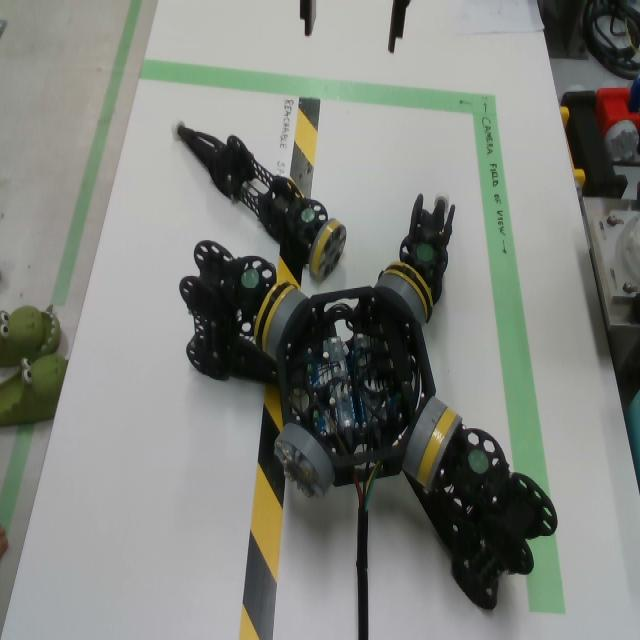body: (277, 287, 436, 487)
body_connector: (276, 424, 335, 496), (403, 397, 446, 477), (265, 289, 308, 360), (376, 275, 426, 324)
leg: (403, 410, 558, 612), (170, 117, 346, 283), (179, 240, 295, 383), (377, 192, 456, 323)
leg_connector: (416, 408, 462, 489), (378, 261, 434, 324), (254, 281, 295, 352), (309, 219, 347, 283)
leg_marker: (469, 451, 488, 472), (241, 269, 259, 288), (417, 244, 433, 261), (302, 208, 314, 223)
